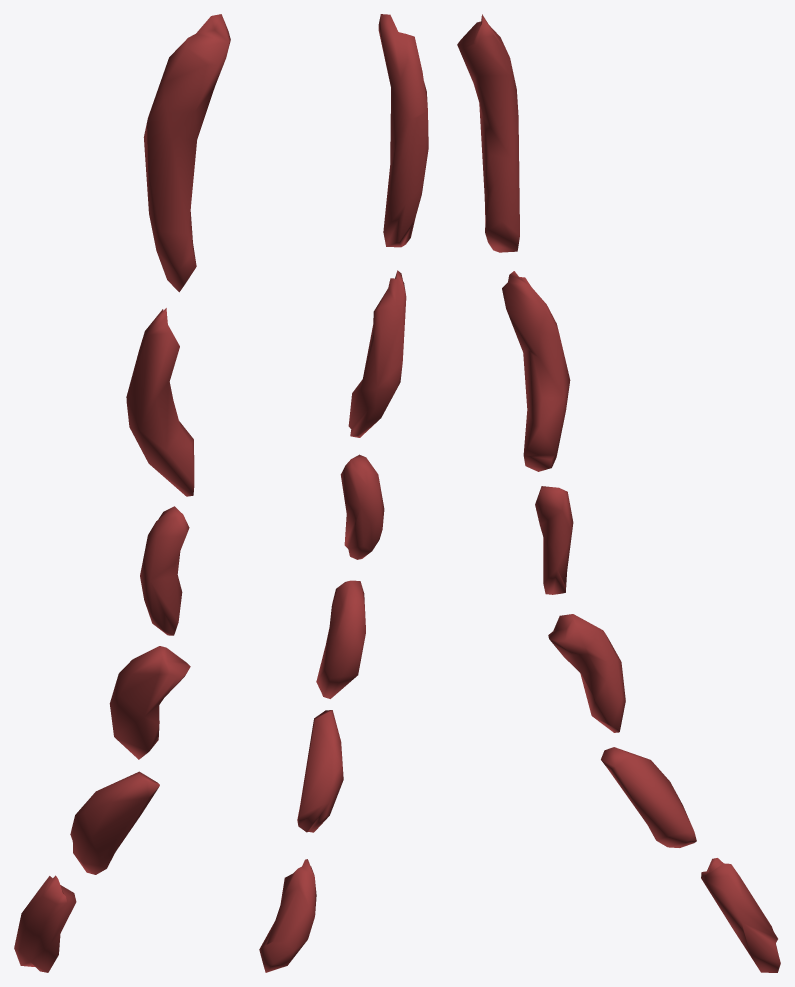
File: interspinales-colli-muscles-r.glb
3 views of the same model, side by side, from view 1: azimuth 30°, elevation 25°; view 2: azimuth 150°, elevation 25°; view 3: azimuth 270°, elevation 25° (orthographic). The views are drawn at different scales.
Visible parts, largest first — view 1: Interspinales colli muscles.r; view 2: Interspinales colli muscles.r; view 3: Interspinales colli muscles.r.
Boxes of the visible parts, <box> form: Interspinales colli muscles.r: <box>14,14,230,972</box>; Interspinales colli muscles.r: <box>259,14,428,972</box>; Interspinales colli muscles.r: <box>457,14,780,972</box>.
Size of the model in its own units: 0.00681 by 0.0903 by 0.0275.
